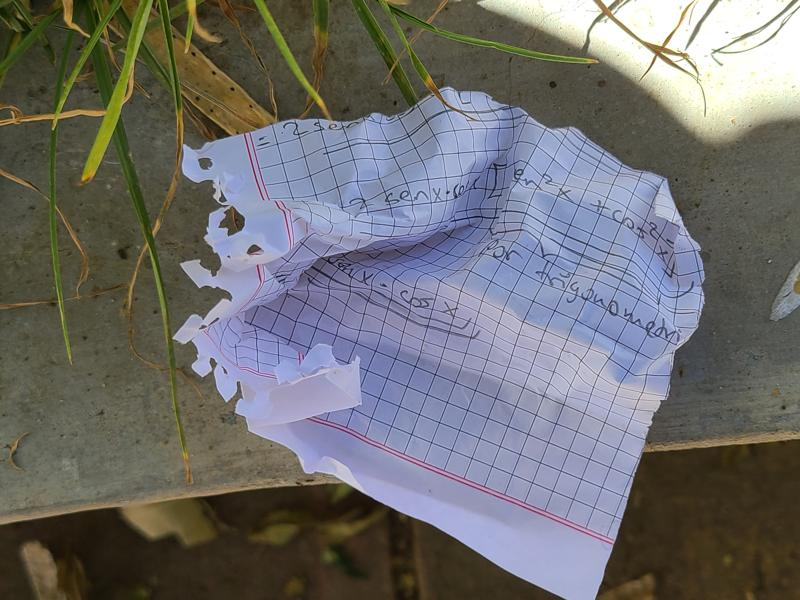papel: (173, 88, 705, 600)
